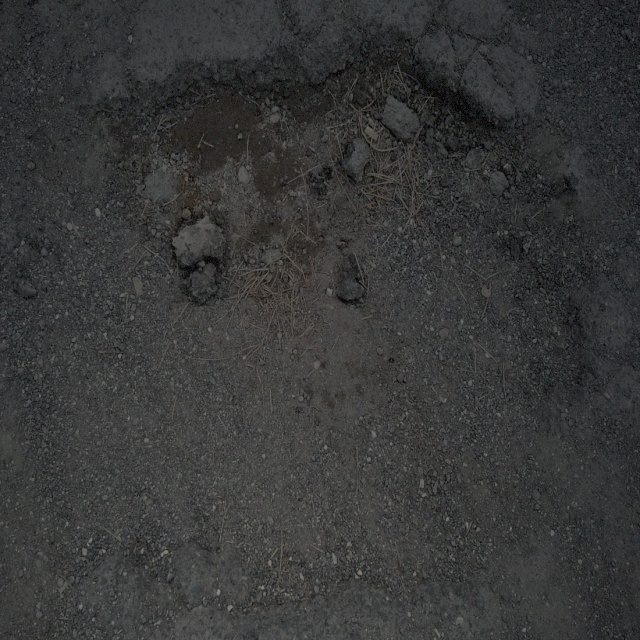pothole: (115, 32, 534, 273)
